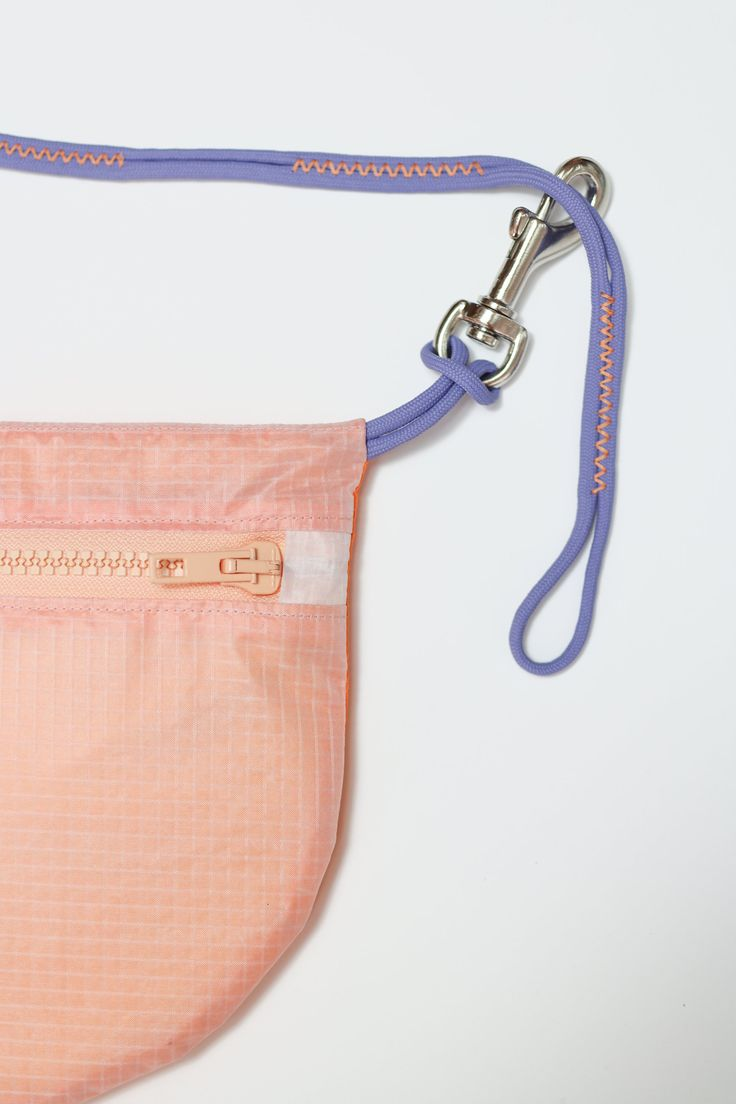nylon: (1, 417, 366, 1104)
